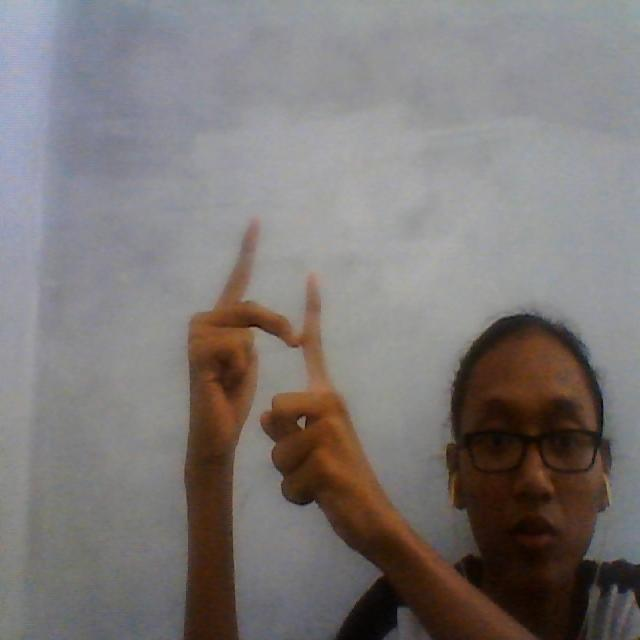H: (206, 204, 347, 446)
